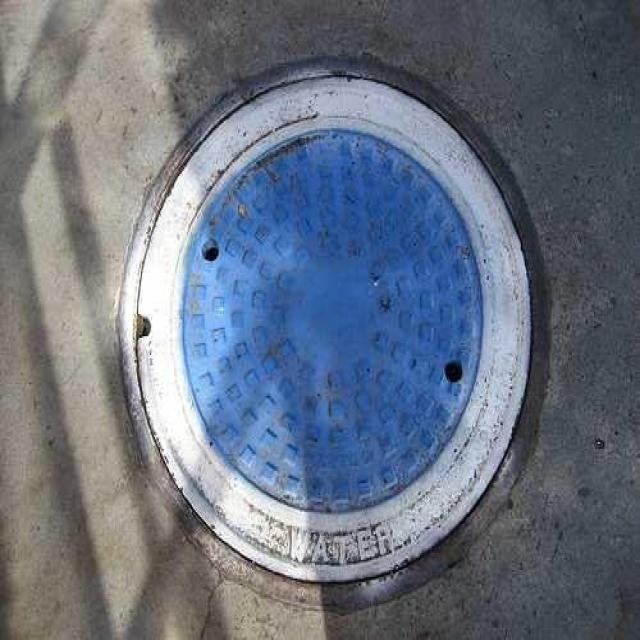manhole: (119, 58, 545, 601)
